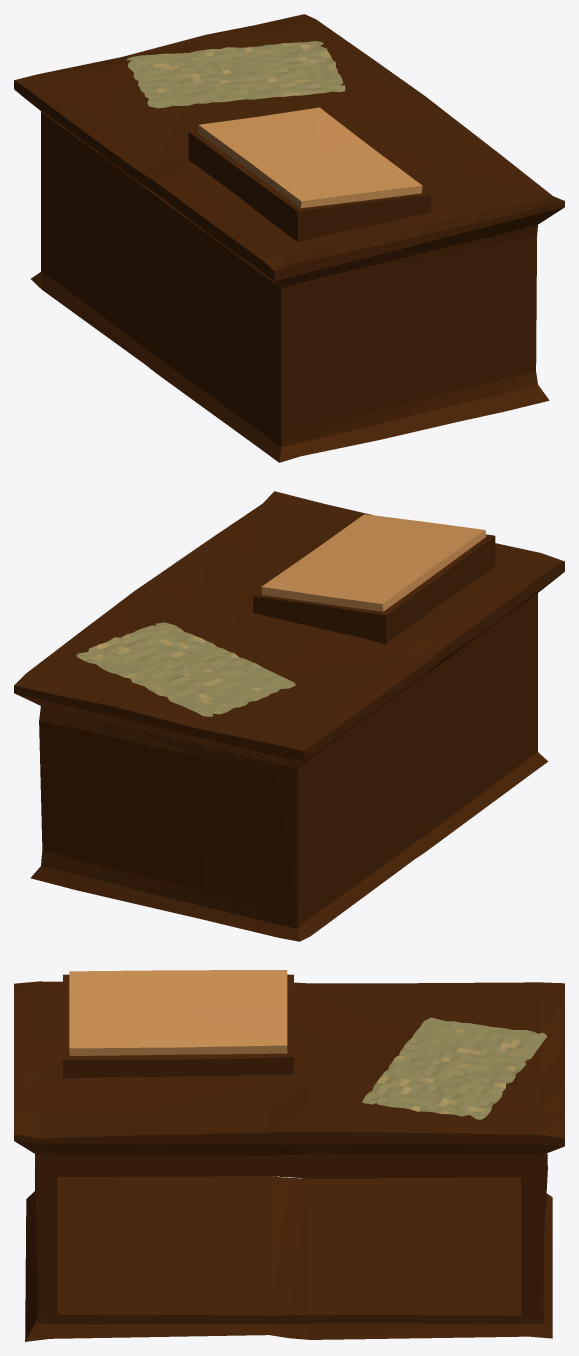
File: TD_Model_LevelSelectAssets.fbx
3 renders of one model, top to bottom at view 1: azimuth 30°, elevation 25°; view 2: azimuth 150°, elevation 25°; view 3: azimuth 270°, elevation 25°, orthographic. The views are drawn at different scales.
Parts seen in each view (by area): view 1: WoodenDesk.002, WoodenDesk.003, Map.005; view 2: WoodenDesk.002, WoodenDesk.003, Map.005; view 3: WoodenDesk.002, WoodenDesk.003, Map.005.
Boxes of the visible parts, x1,y1,x2,y2 form: WoodenDesk.002: (14, 14, 564, 462); WoodenDesk.003: (188, 107, 430, 241); Map.005: (126, 41, 345, 108); WoodenDesk.002: (14, 491, 564, 941); WoodenDesk.003: (253, 514, 495, 644); Map.005: (76, 622, 295, 716); WoodenDesk.002: (14, 981, 564, 1341); WoodenDesk.003: (63, 970, 293, 1078); Map.005: (362, 1017, 546, 1119).
Size of the model in its own units: 268 by 212 by 416.
